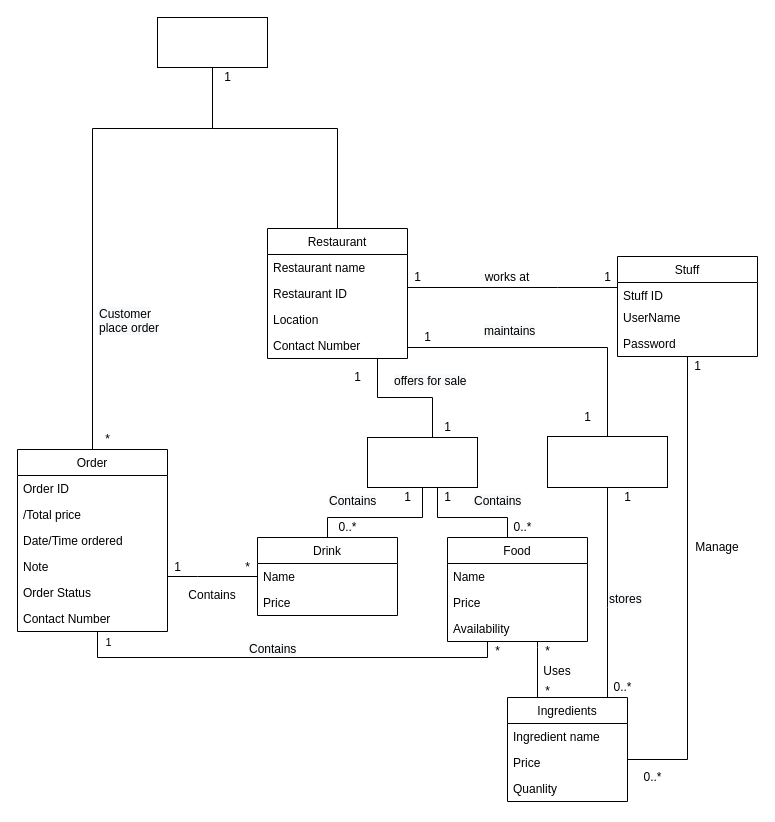
Image size: 775x822. Some labels were removed from this diagram. The shapes that lost their labels are listed below. From the top down, each one's centre as x and y in pixels, then its label:
At point (212, 42): "Main Function".
At point (422, 462): "Menu".
At point (607, 462): "Inventory".
